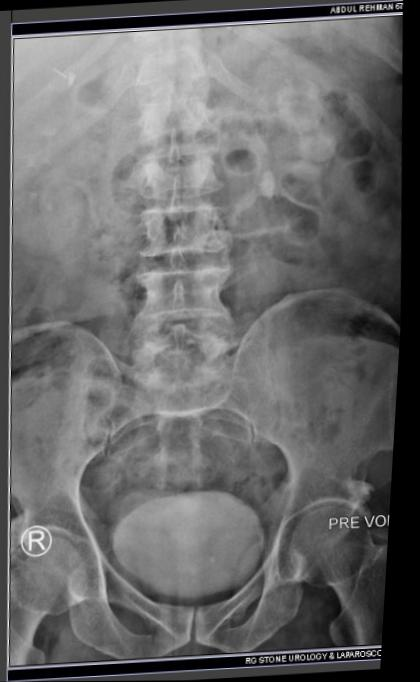bladder: (69, 497, 285, 640)
